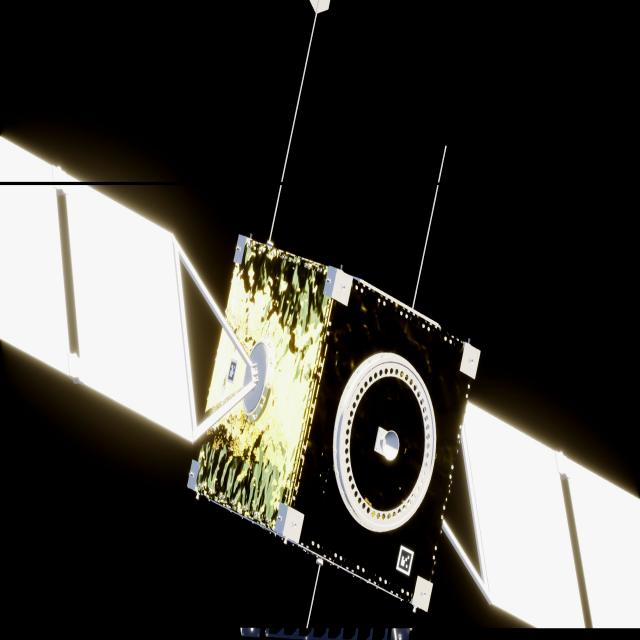satellite: (0, 135, 640, 629)
